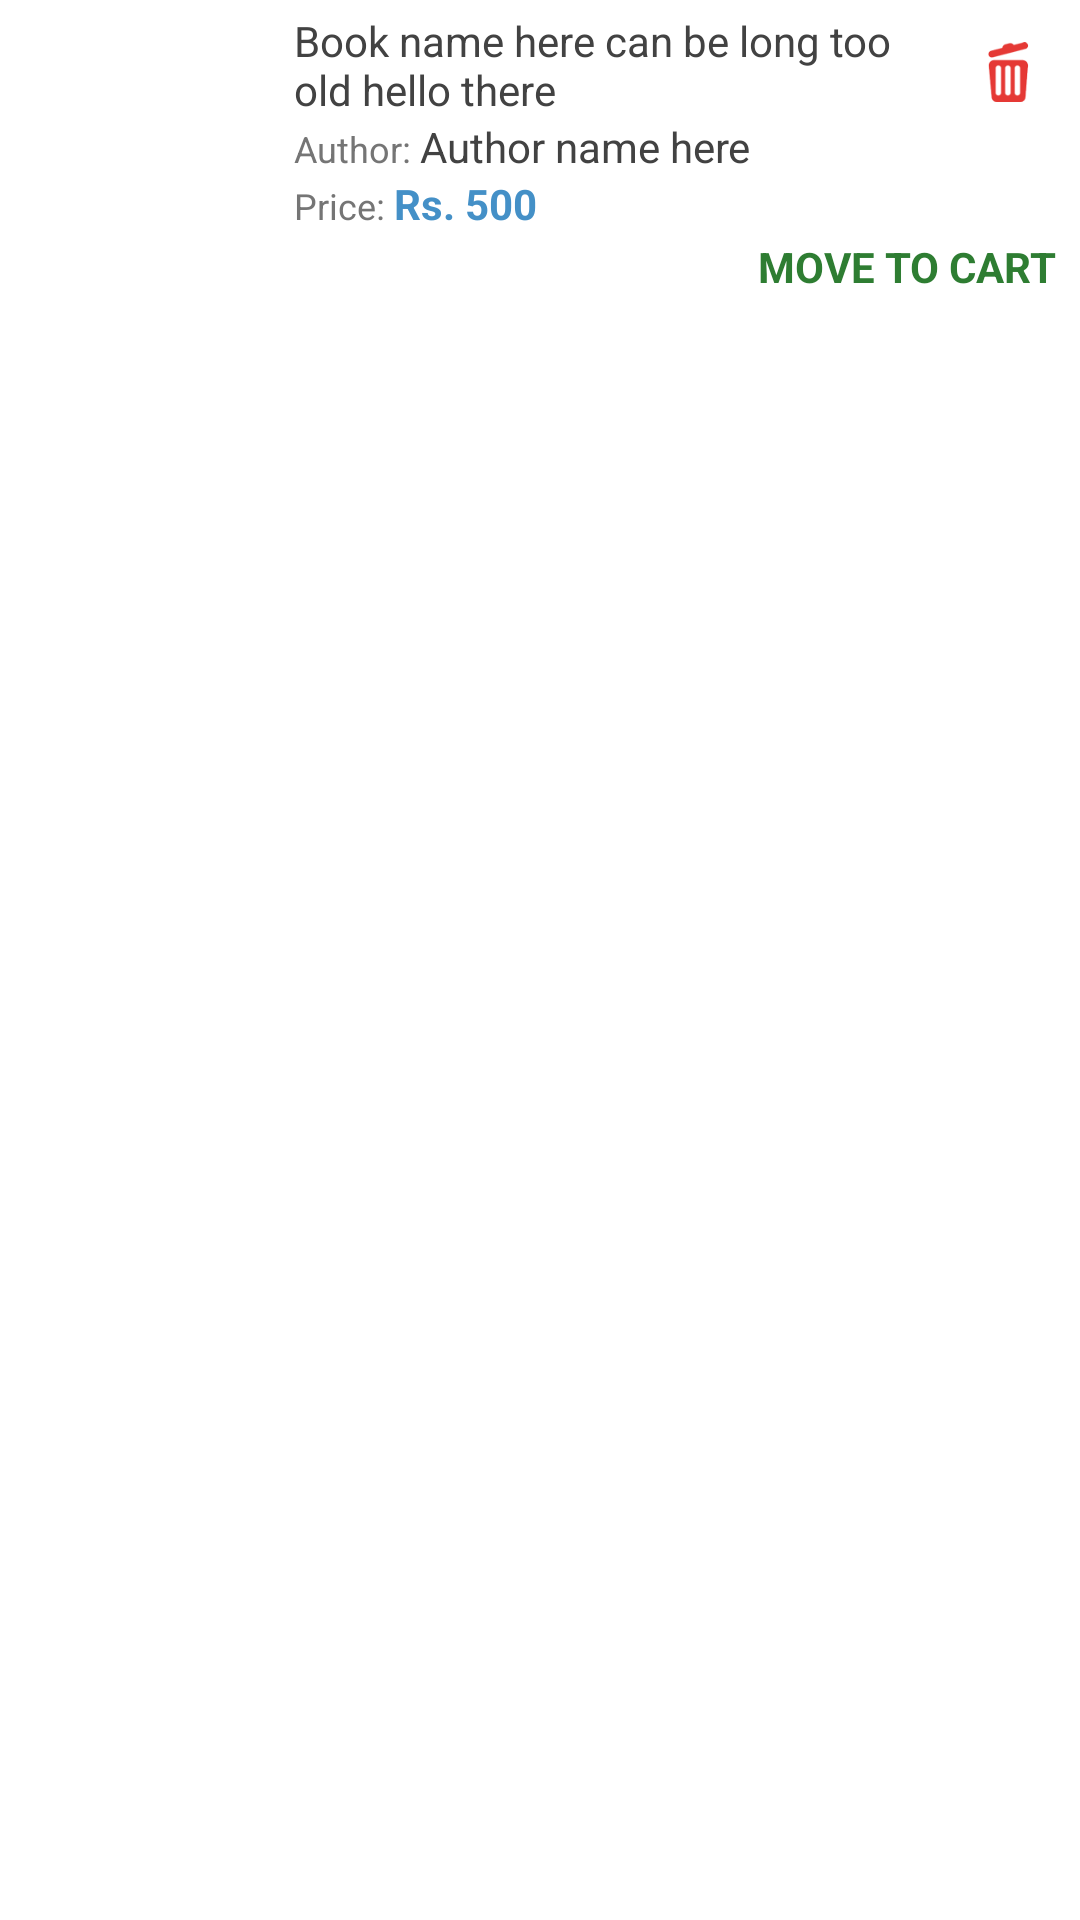

Icon click points for this 1080×1920 phone screenshot, format point (x, y):
delete: point (1008, 72)
